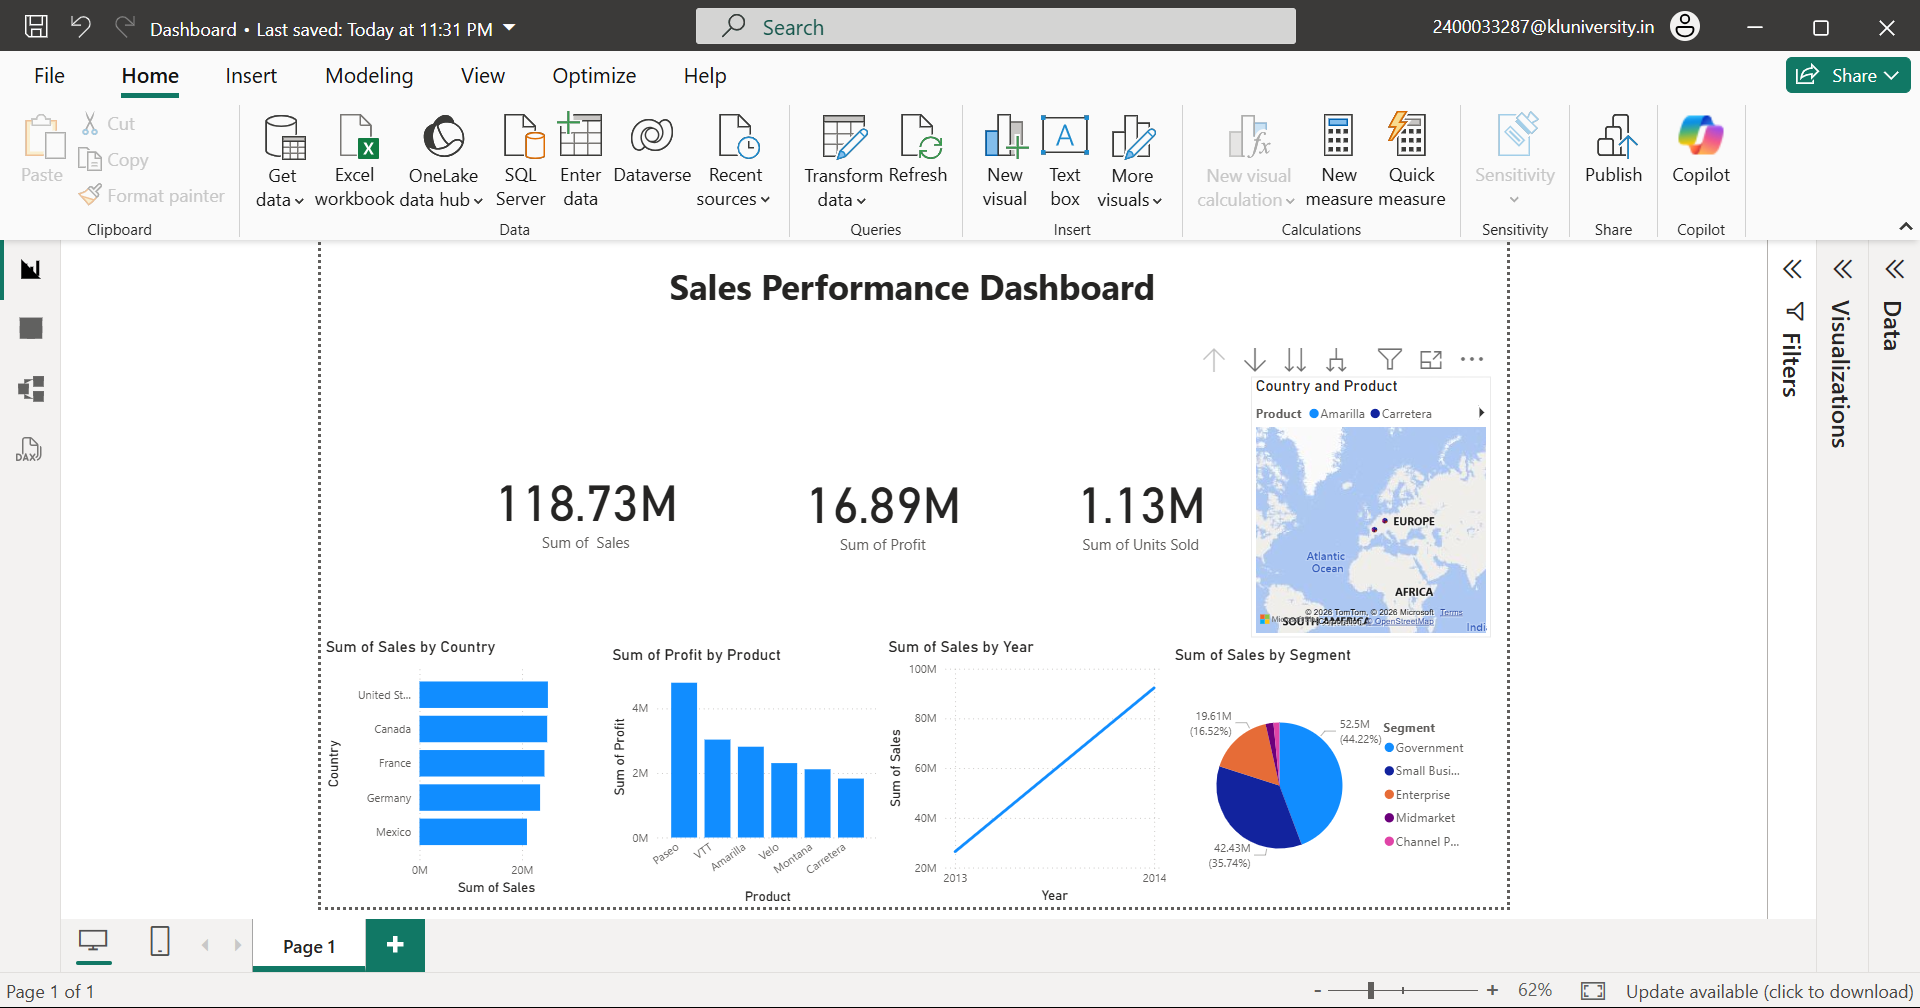

This screenshot's page, from the dashboard's own definition file:
{"tool":"powerbi","page":{"name":"Page 1","canvas":[1280,720],"ordinal":0},"visuals":[{"type":"card","fields":{"Values":["Sum(Sheet1. Sales)"]},"box":[145.5,147.4,279.7,279.7],"z":0},{"type":"card","fields":{"Values":["Sum(Sheet1.Profit)"]},"box":[466.8,149.3,279.7,281.6],"z":1},{"type":"card","fields":{"Values":["Sum(Sheet1.Units Sold)"]},"box":[744.6,149.3,279.7,281.6],"z":2},{"type":"clusteredBarChart","fields":{"Category":["Sheet1.Country"],"Y":["Sum(Sheet1. Sales)"]},"box":[0,429,289.1,281.6],"z":3},{"type":"clusteredColumnChart","fields":{"Category":["Sheet1.Product"],"Y":["Sum(Sheet1.Profit)"]},"box":[309.9,436.5,296.7,283.5],"z":4},{"type":"lineChart","fields":{"Category":["Sheet1.Date.Variation.Date Hierarchy.Year","Sheet1.Date.Variation.Date Hierarchy.Quarter","Sheet1.Date.Variation.Date Hierarchy.Month","Sheet1.Date.Variation.Date Hierarchy.Day"],"Y":["Sum(Sheet1. Sales)"]},"box":[606.6,429,309.9,291],"z":5},{"type":"pieChart","fields":{"Category":["Sheet1.Segment"],"Y":["Sum(Sheet1. Sales)"]},"box":[916.5,436.5,332.6,283.5],"z":6},{"type":"textbox","box":[15.1,18.9,1247.3,68],"z":7},{"type":"map","fields":{"Category":["Sheet1.Country","Sheet1.Date.Variation.Date Hierarchy.Year"],"Series":["Sheet1.Product"]},"box":[1003.5,147.4,258.9,281.6],"z":8}]}

Visuals, with their boxes on the page's 1280x720 design canvas (x1, y1, x2, y2). These are canvas units, not pixel positions in the 1920x1008 screenshot, which may show the page scaled, cropped or inside an application window:
card - Sum(Sheet1. Sales): 146:147:425:427
card - Sum(Sheet1.Profit): 467:149:746:431
card - Sum(Sheet1.Units Sold): 745:149:1024:431
clusteredBarChart - Sheet1.Country x Sum(Sheet1. Sales): 0:429:289:711
clusteredColumnChart - Sheet1.Product x Sum(Sheet1.Profit): 310:436:607:720
lineChart - Sheet1.Date.Variation.Date Hierarchy.Year x Sheet1.Date.Variation.Date Hierarchy.Quarter: 607:429:916:720
pieChart - Sheet1.Segment x Sum(Sheet1. Sales): 916:436:1249:720
textbox: 15:19:1262:87
map - Sheet1.Country x Sheet1.Date.Variation.Date Hierarchy.Year: 1004:147:1262:429
